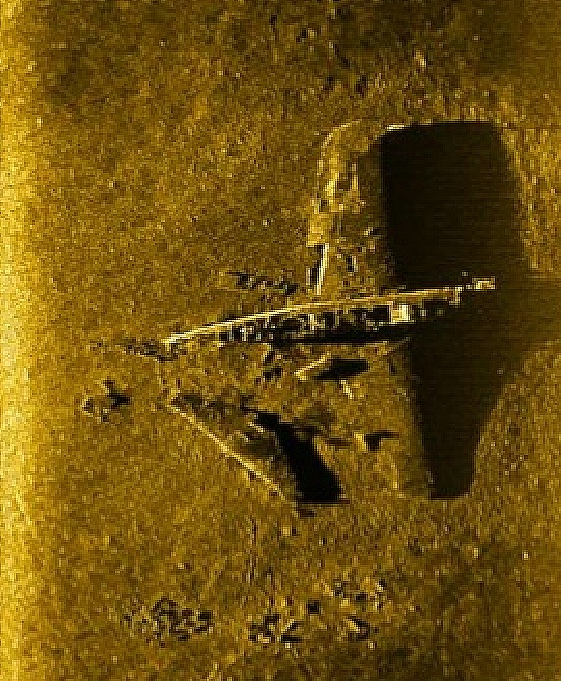aircraft: (132, 116, 498, 506)
